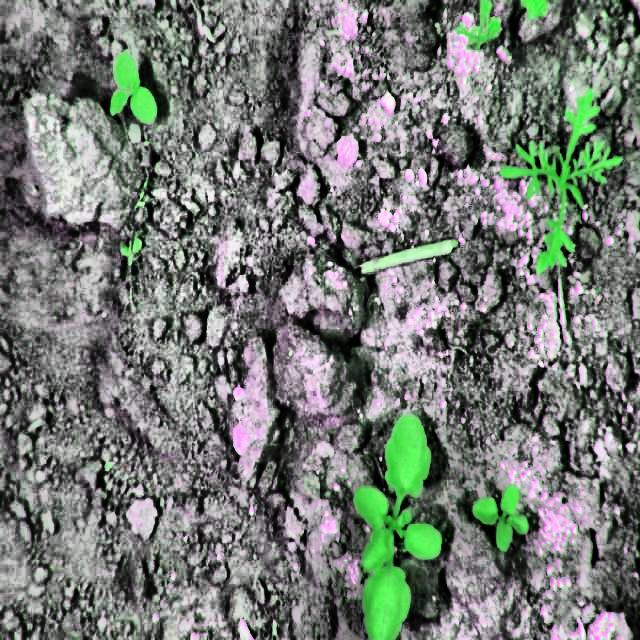Weeds: (346, 410, 448, 638), (470, 477, 534, 555), (104, 48, 157, 124)
undefined: (496, 76, 630, 276), (458, 0, 505, 54)
